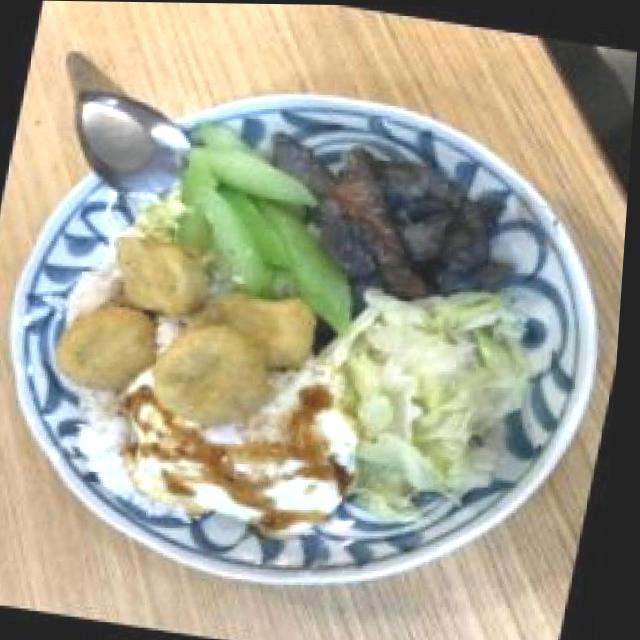chicken_nuggets: (50, 226, 338, 424)
chinese_cabbage: (320, 281, 546, 532)
fried_eggs: (110, 362, 374, 545)
rice: (64, 386, 150, 492)
